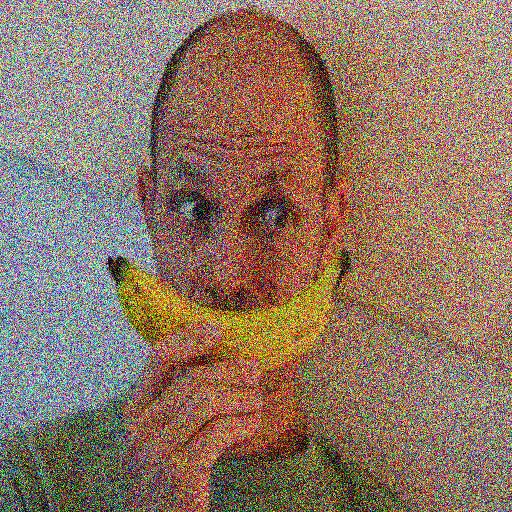fruit: (57, 135, 172, 425)
